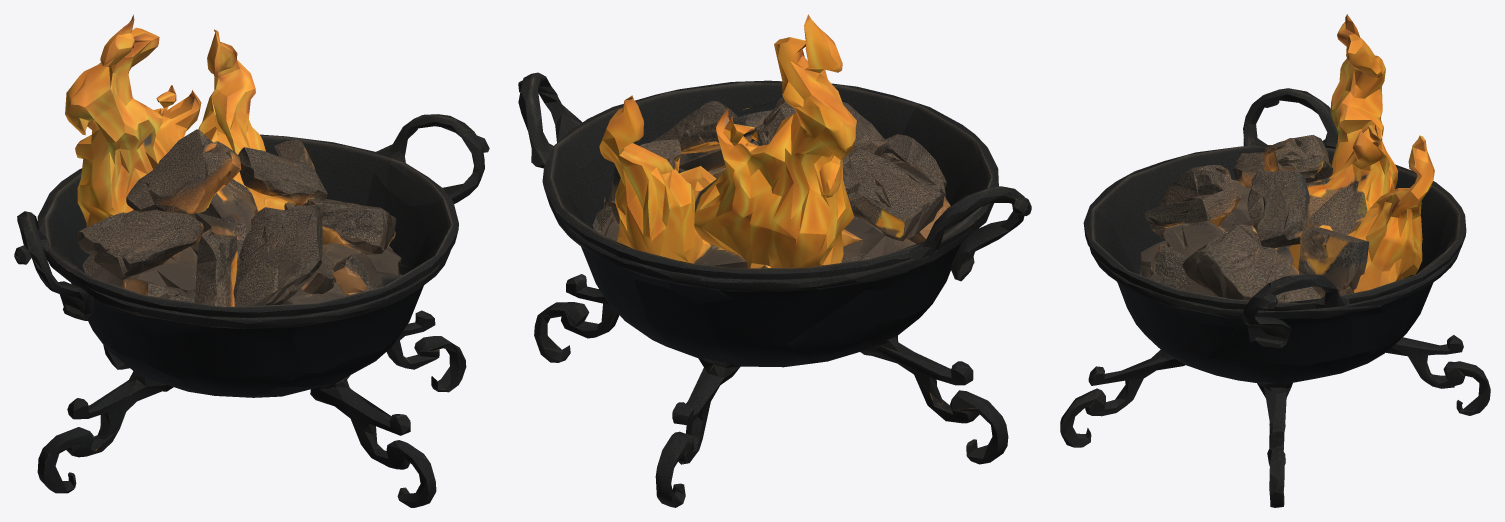
File: Meshy_AI_Decor_brazier_01a0e9ed_texture.glb
3 views of the same model, side by side, from view 1: azimuth 30°, elevation 25°; view 2: azimuth 150°, elevation 25°; view 3: azimuth 270°, elevation 25° (orthographic). The views are drawn at different scales.
Bounding box in the file's own units: 1.9 × 1.61 × 1.67.
Materials: 1 (1 with a texture image).
